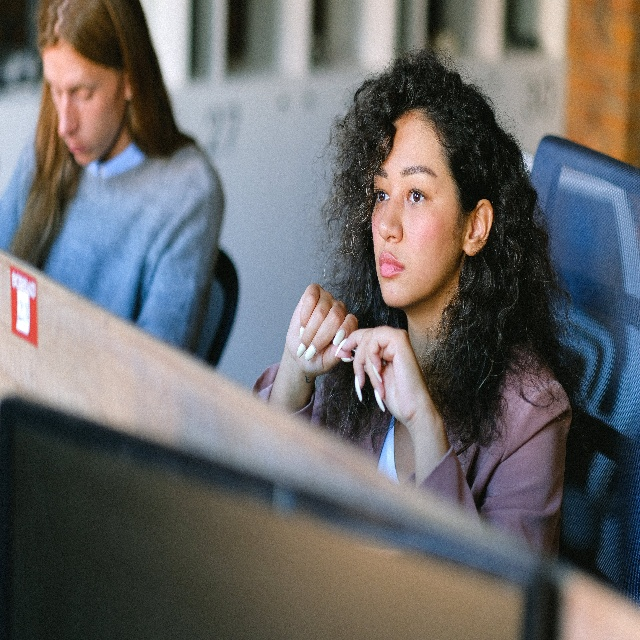Sin_guantes: (337, 325, 434, 433), (285, 288, 360, 377)
